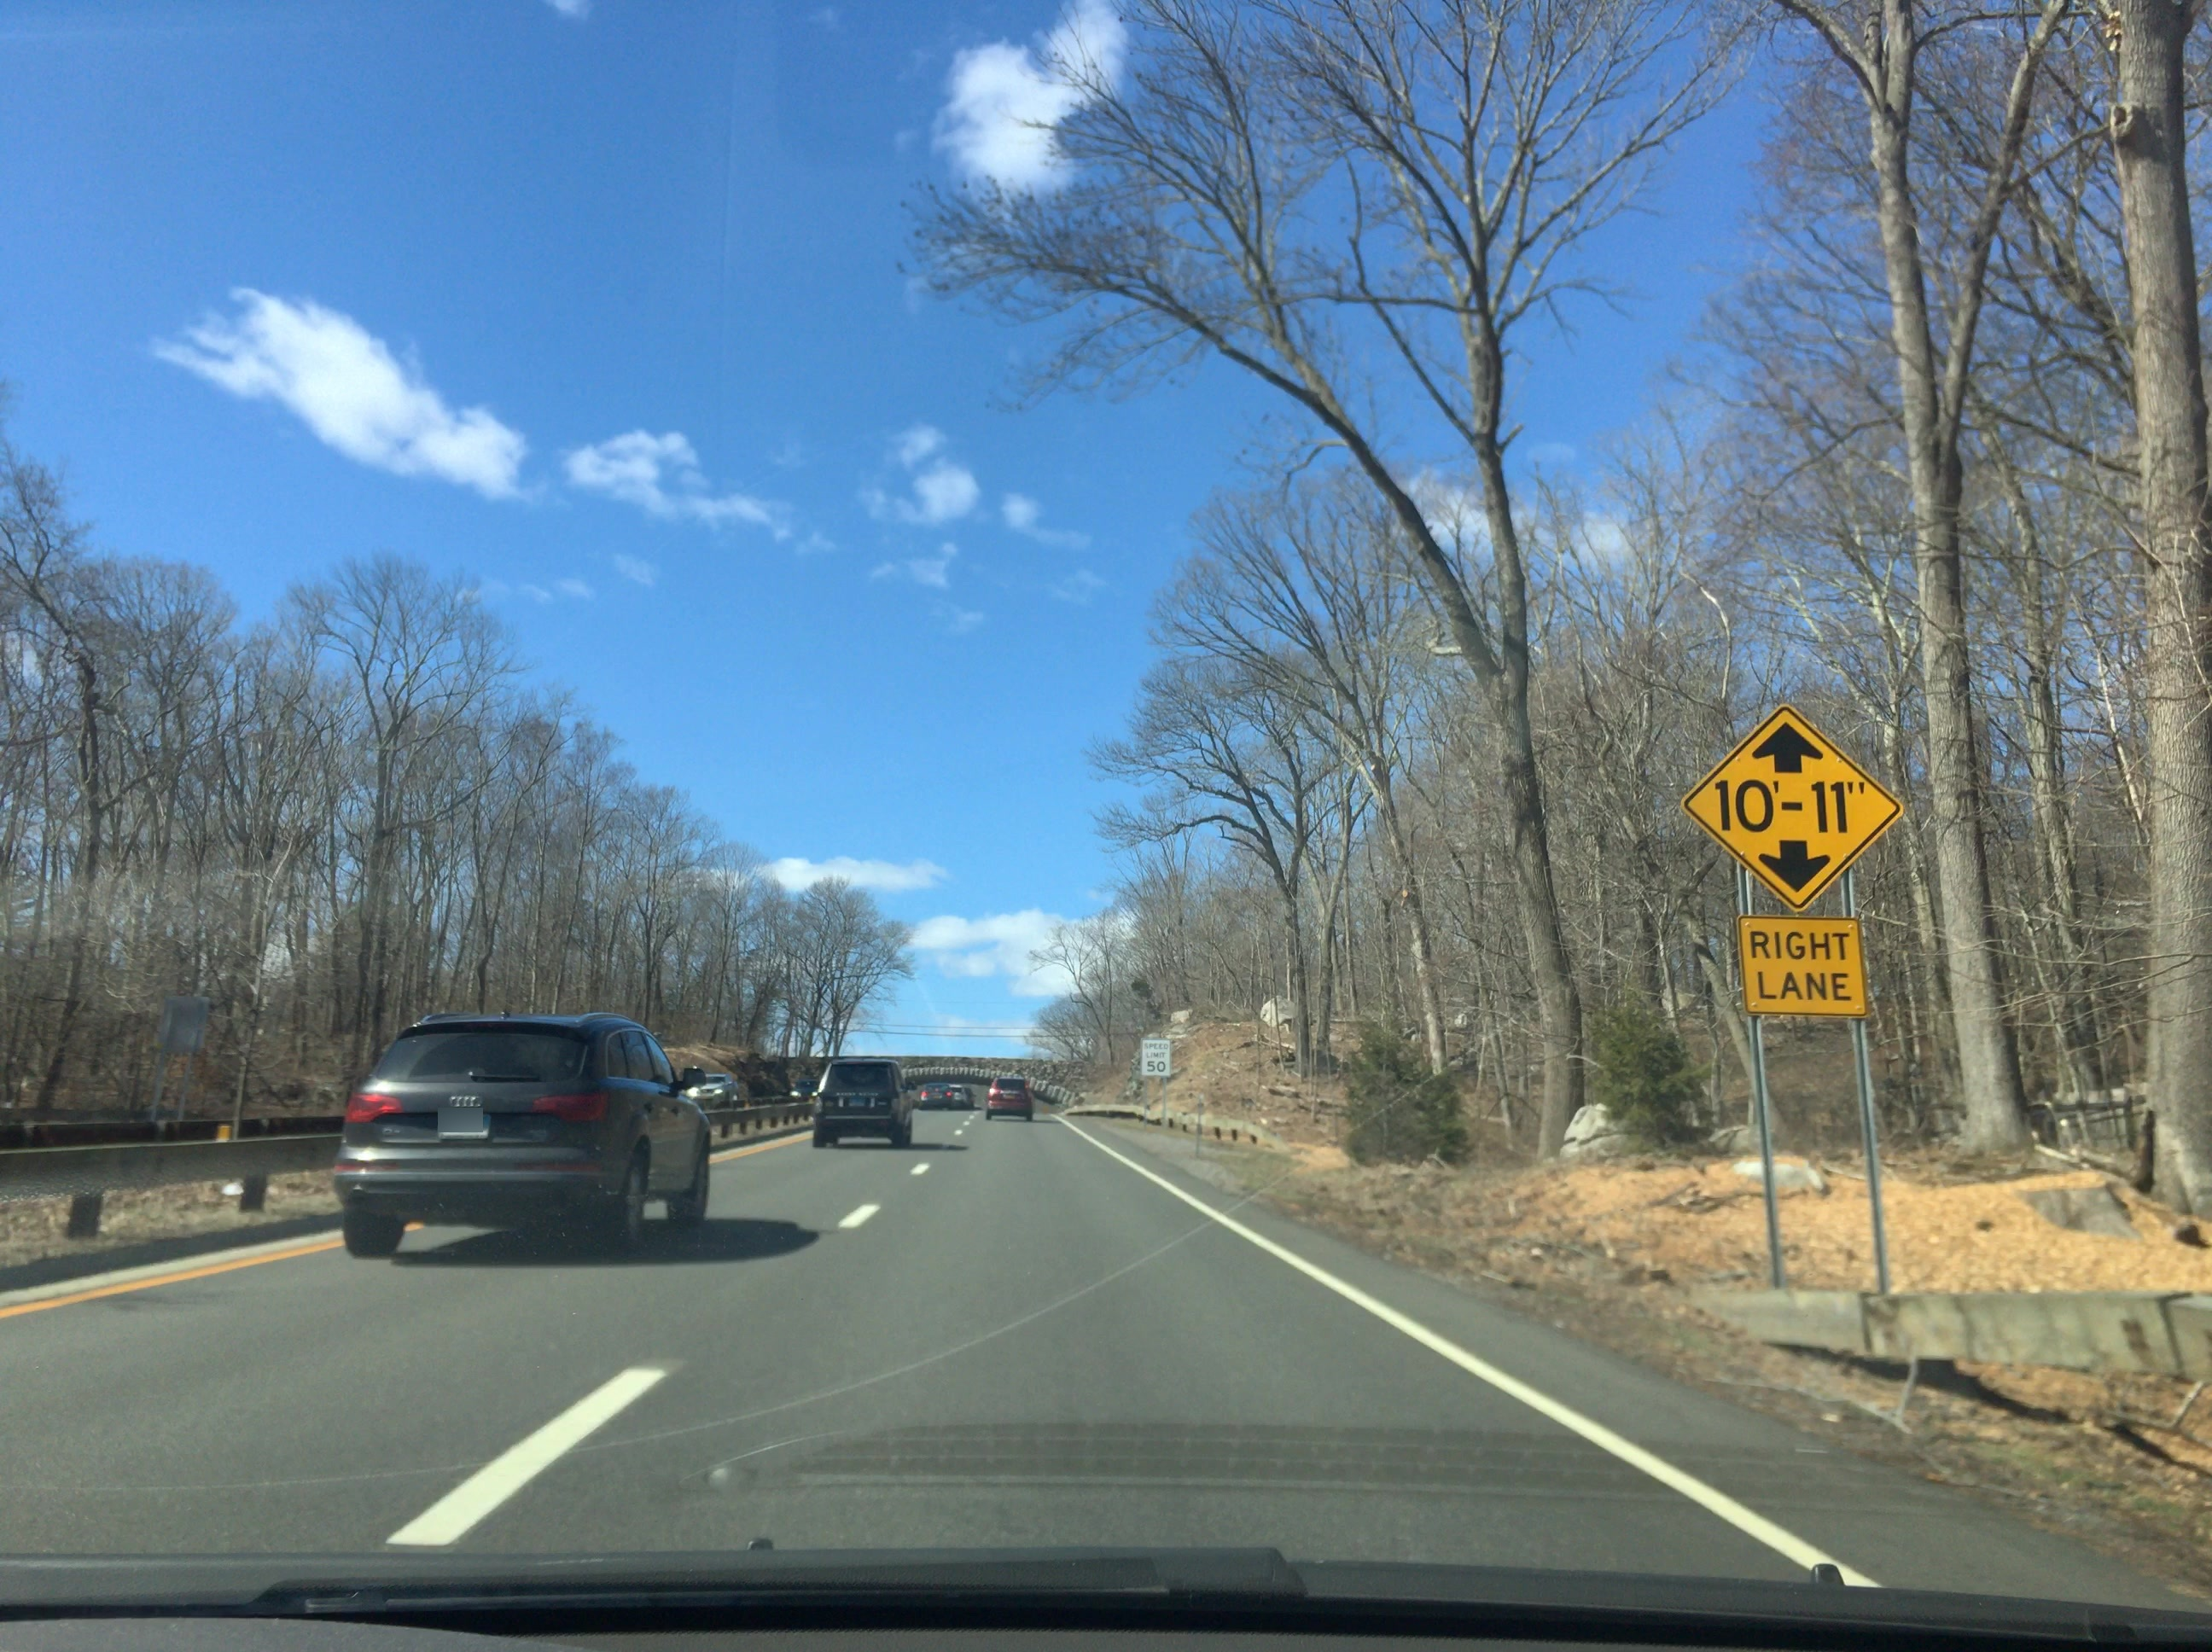low-clearance-sign: (1681, 703, 1907, 913)
